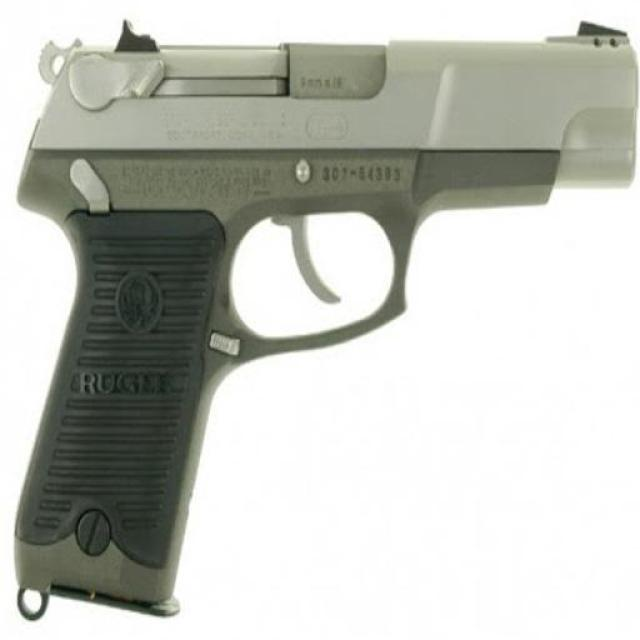pistol: (12, 16, 635, 620)
